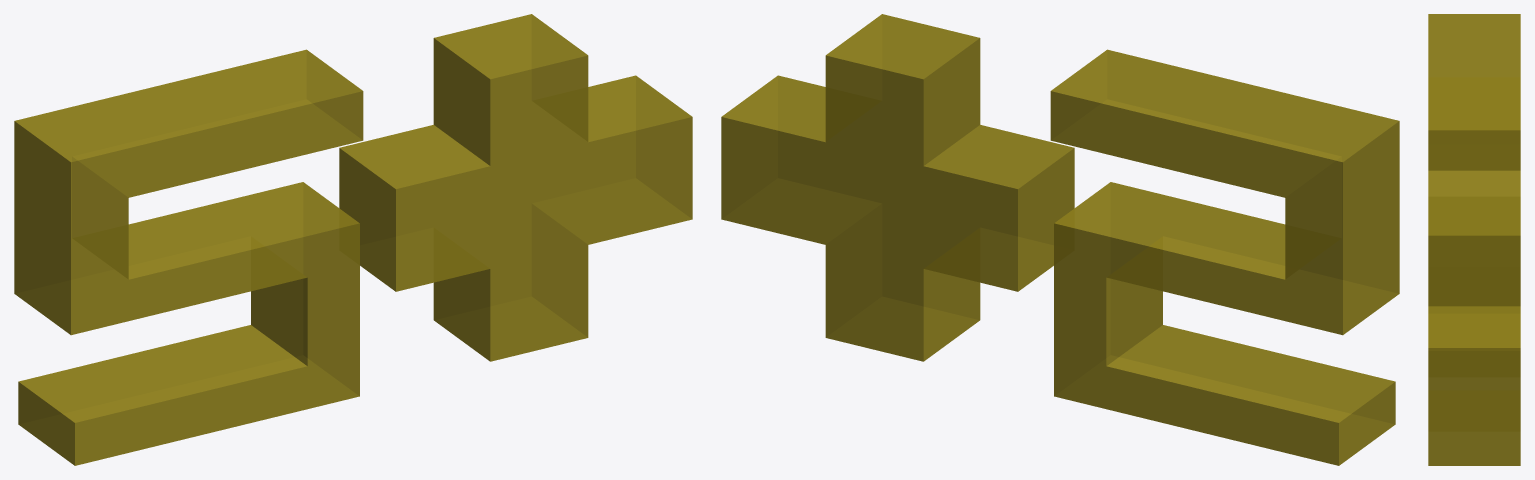
File: plus2model.fbx
3 views of the same model, side by side, from view 1: azimuth 30°, elevation 25°; view 2: azimuth 150°, elevation 25°; view 3: azimuth 270°, elevation 25° (orthographic). The views are drawn at different scales.
Visible parts, largest first — view 1: plus2; view 2: plus2; view 3: plus2.
Part boxes in pixels (box(x1,y1,x2,y2)): plus2: box(14, 14, 692, 465); plus2: box(721, 14, 1399, 465); plus2: box(1428, 14, 1520, 465).
Size of the model in its own units: 6.34 by 2.97 by 1.
